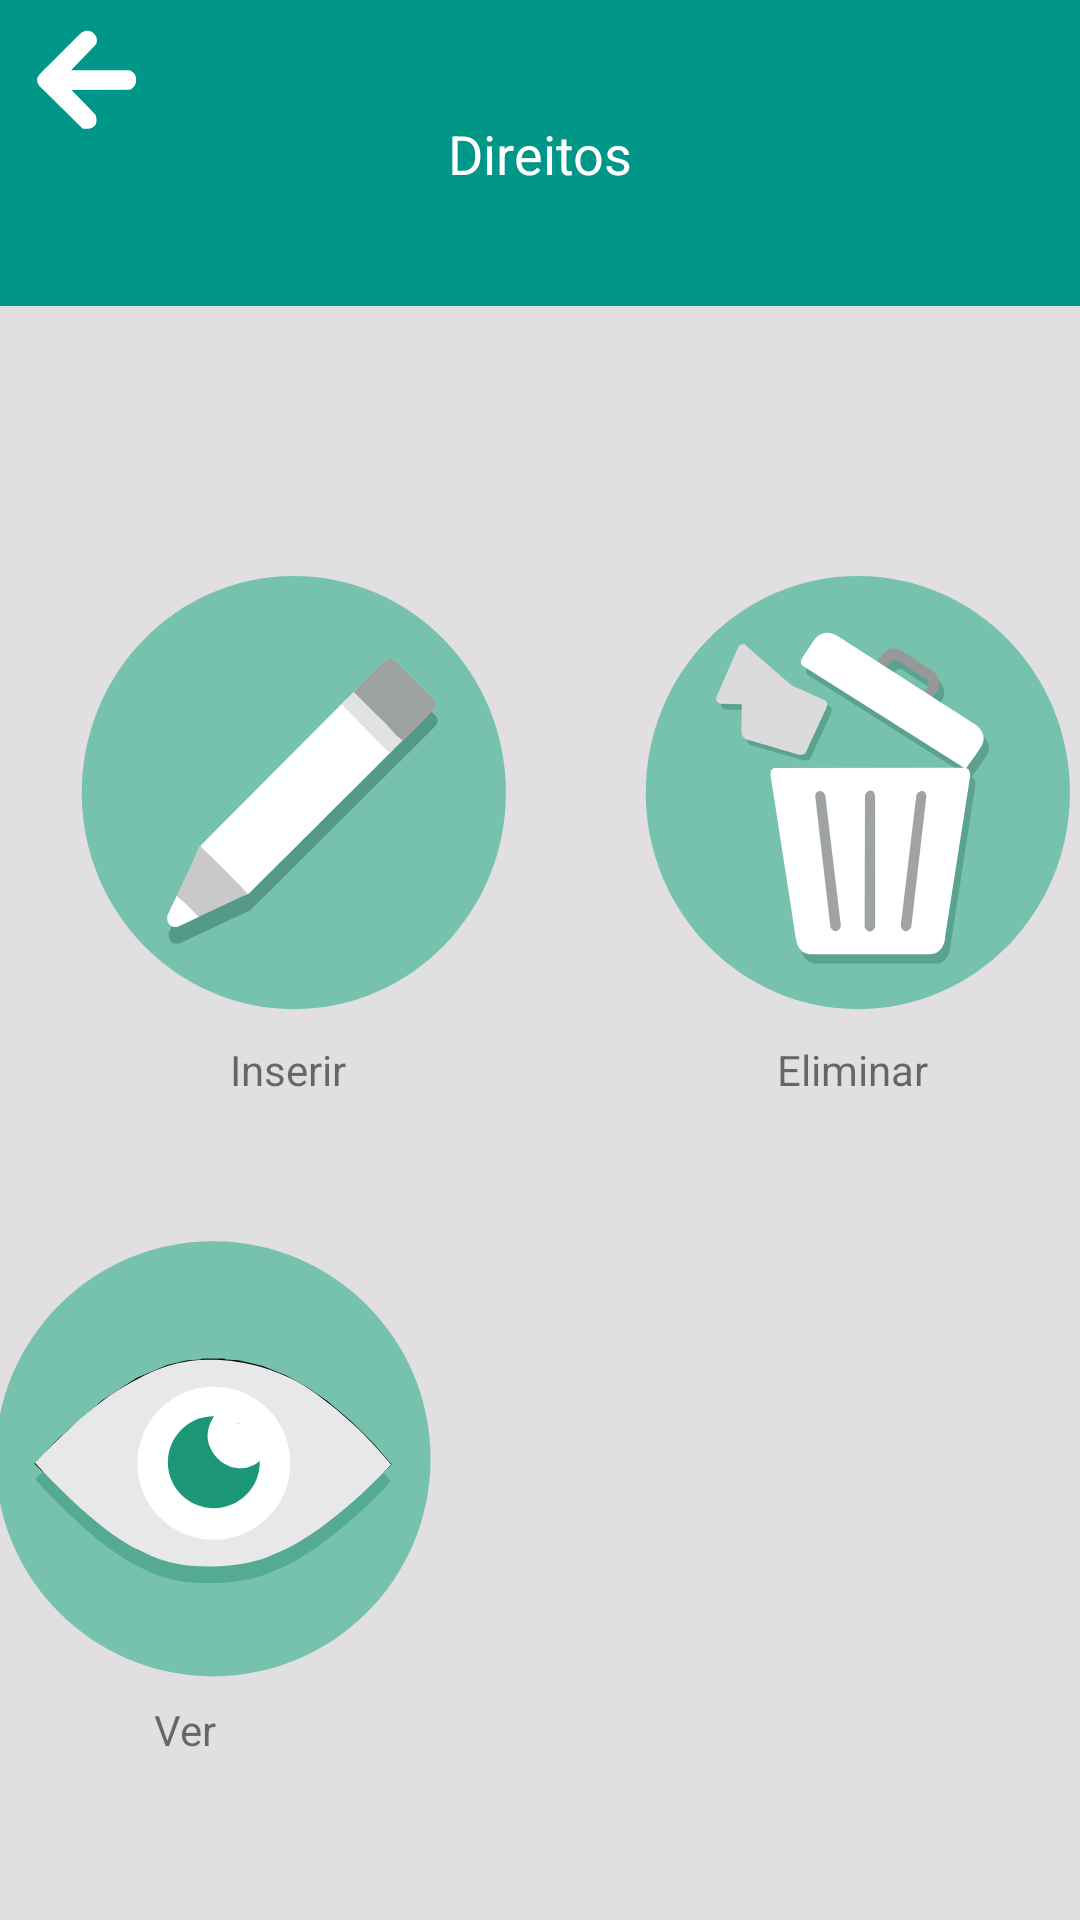

Named icons in this screenshot (1080x1920) and their bounding boxes, (x1, y1, x2, y2):
seta: (37, 30, 137, 129)
